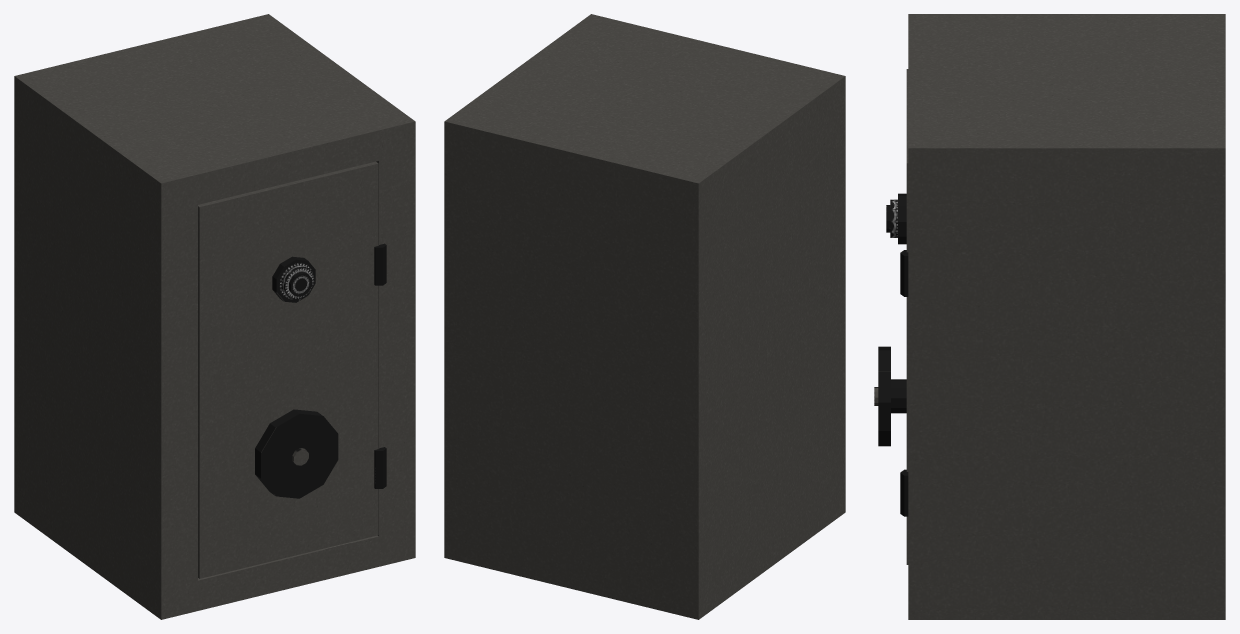
File: Seif.fbx
3 views of the same model, side by side, from view 1: azimuth 30°, elevation 25°; view 2: azimuth 150°, elevation 25°; view 3: azimuth 270°, elevation 25° (orthographic). The views are drawn at different scales.
Parts seen in each view (by area): view 1: Cylinder.002; view 2: Cylinder.002; view 3: Cylinder.002.
Part boxes in pixels (bbox=[...]): Cylinder.002: bbox=[14, 14, 415, 619]; Cylinder.002: bbox=[444, 14, 845, 619]; Cylinder.002: bbox=[874, 14, 1225, 619].
Bounding box in the file's own units: 145 × 238 × 161.
1 material, 1 textured.
